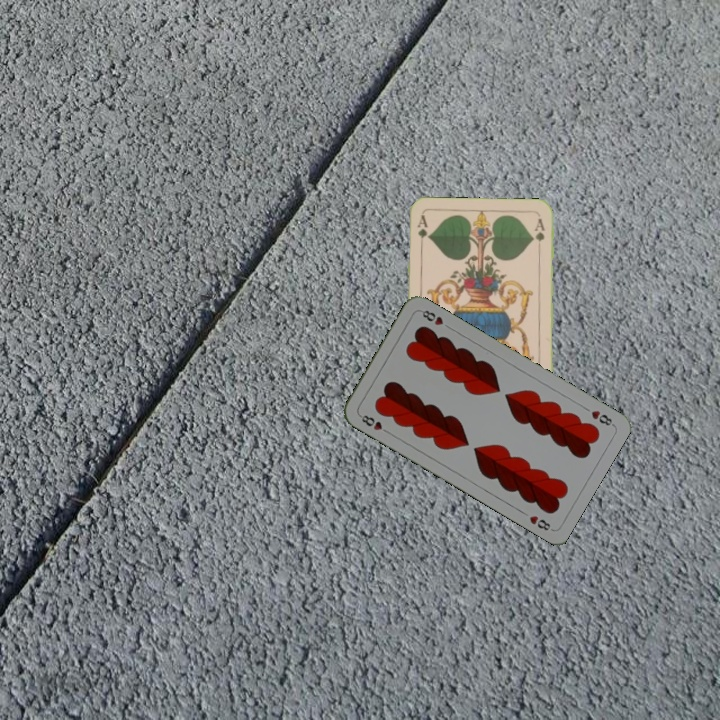GA: (413, 212, 430, 252)
H8: (355, 411, 392, 436), (587, 406, 616, 429)
